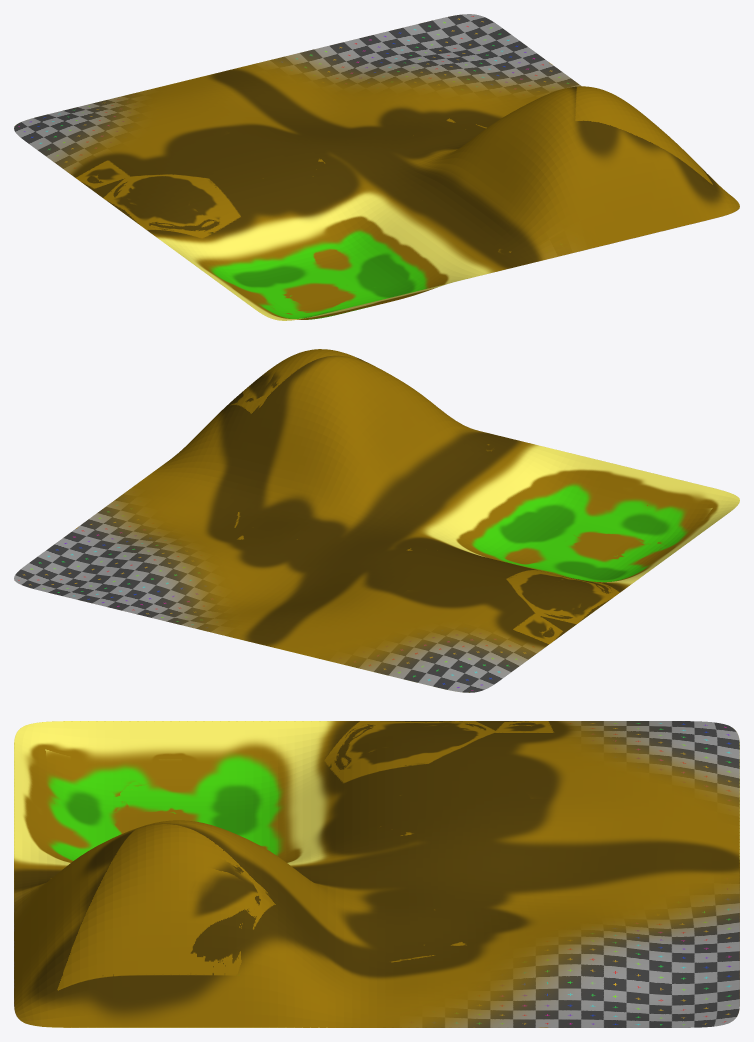
File: Biomes.fbx
The picture shows the model from 3 angles, top to bottom: view 1: azimuth 30°, elevation 25°; view 2: azimuth 150°, elevation 25°; view 3: azimuth 270°, elevation 25°; orthographic projection. The views are drawn at different scales.
Visible parts, largest first — view 1: Plane; view 2: Plane; view 3: Plane.
Part boxes in pixels (<box>): Plane: <box>14,14,739,320</box>; Plane: <box>14,349,739,692</box>; Plane: <box>14,721,739,1027</box>.
Size of the model in its own units: 20976 by 5546 by 20976.
1 material, 1 textured.
